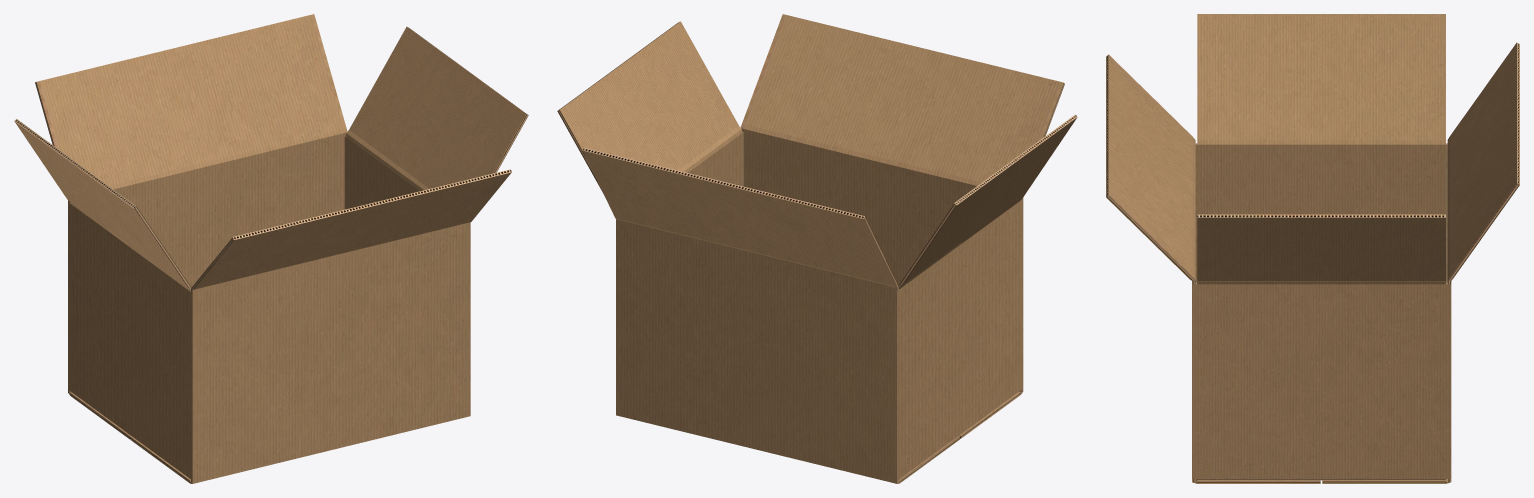
Rendered from cardboard-box-open.glb.
3 views of the same model, side by side, from view 1: azimuth 30°, elevation 25°; view 2: azimuth 150°, elevation 25°; view 3: azimuth 270°, elevation 25° (orthographic). The views are drawn at different scales.
Visible parts, largest first — view 1: Cardboard Box; view 2: Cardboard Box; view 3: Cardboard Box.
Boxes of the visible parts, x1,y1,x2,y2 form: Cardboard Box: [14, 14, 528, 483]; Cardboard Box: [557, 14, 1077, 483]; Cardboard Box: [1106, 14, 1519, 483].
Size of the model in its own units: 0.6499 by 0.4567 by 0.5675.
3 materials, 3 textured.
